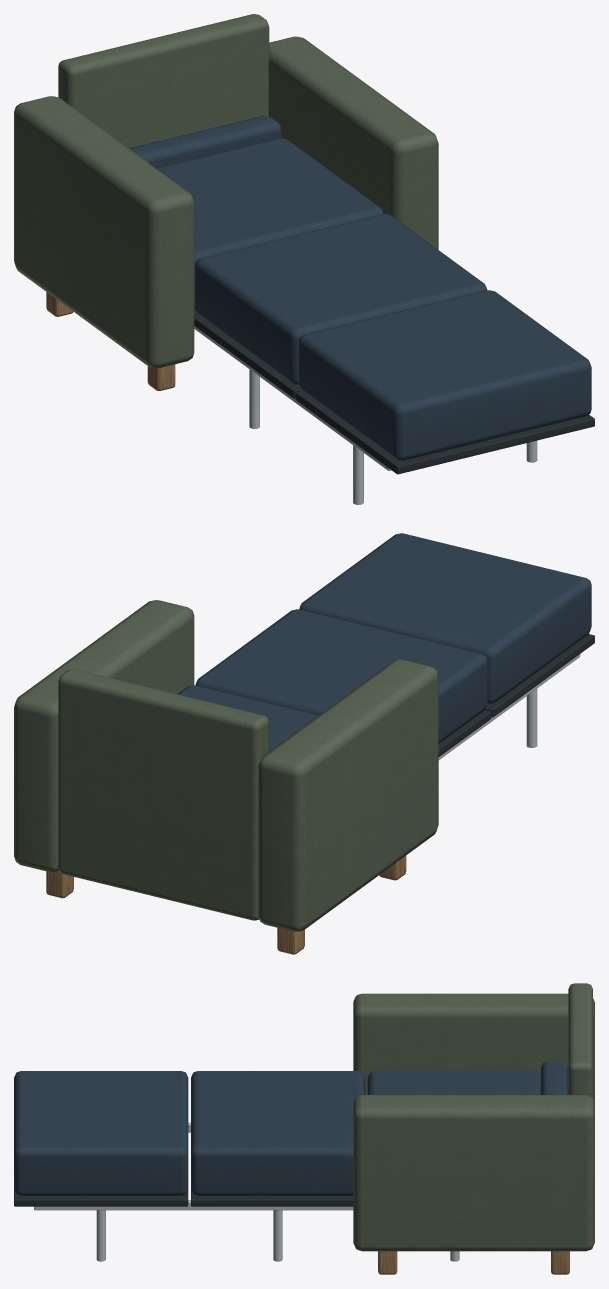
The model's file is chair-sleeper-open.glb.
3 views of the same model, one above another, from view 1: azimuth 30°, elevation 25°; view 2: azimuth 150°, elevation 25°; view 3: azimuth 270°, elevation 25° (orthographic). The views are drawn at different scales.
Parts seen in each view (by area): view 1: catalog_surface_UVMap, catalog_surface_RealismUV; view 2: catalog_surface_UVMap, catalog_surface_RealismUV; view 3: catalog_surface_UVMap, catalog_surface_RealismUV.
Boxes of the visible parts, bbox=[...] form: catalog_surface_UVMap: bbox=[14, 14, 594, 474]; catalog_surface_RealismUV: bbox=[194, 326, 537, 504]; catalog_surface_UVMap: bbox=[14, 533, 594, 954]; catalog_surface_RealismUV: bbox=[438, 654, 580, 759]; catalog_surface_UVMap: bbox=[14, 983, 594, 1274]; catalog_surface_RealismUV: bbox=[34, 1122, 459, 1261].
Size of the model in its own units: 1.06 by 0.82 by 2.15.
Materials: 5 (3 with a texture image).
